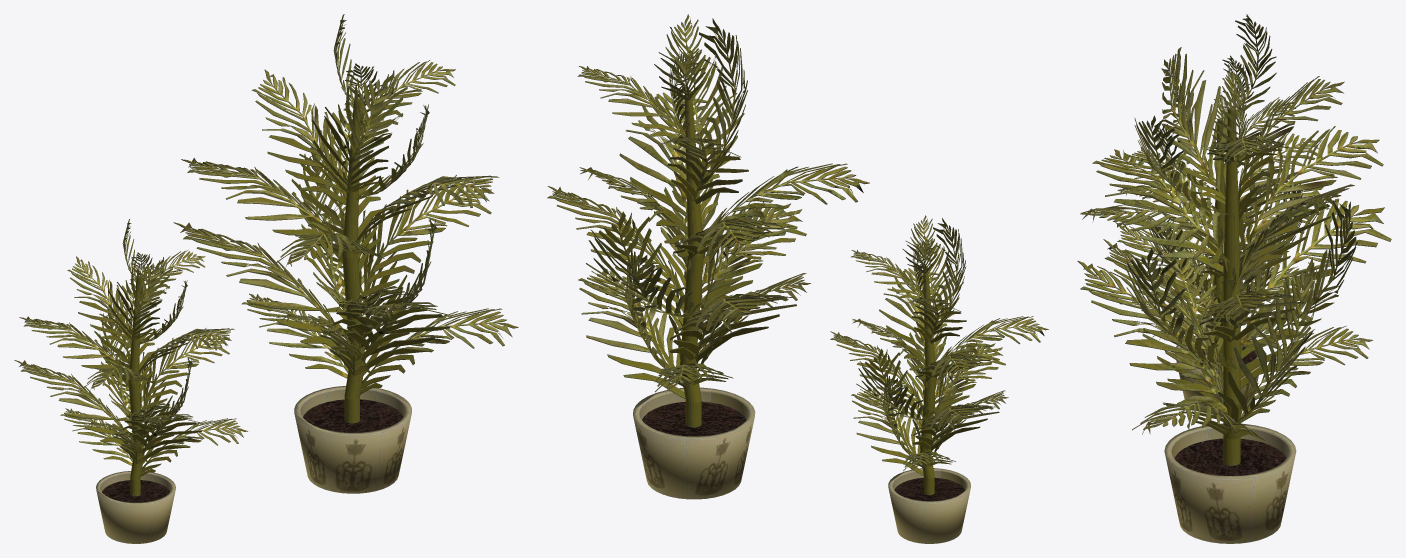
Rendered from plants.glb.
3 views of the same model, side by side, from view 1: azimuth 30°, elevation 25°; view 2: azimuth 150°, elevation 25°; view 3: azimuth 270°, elevation 25° (orthographic). The views are drawn at different scales.
Parts seen in each view (by area): view 1: Plano.001_Materiais.004_0, Plano.002_Materiais.001_0; view 2: Plano.001_Materiais.004_0, Plano.002_Materiais.001_0; view 3: Plano.001_Materiais.004_0, Plano.002_Materiais.001_0.
Part boxes in pixels (box(x1,y1,x2,y2)): Plano.001_Materiais.004_0: box(173, 14, 518, 493); Plano.002_Materiais.001_0: box(14, 219, 247, 543); Plano.001_Materiais.004_0: box(547, 14, 869, 499); Plano.002_Materiais.001_0: box(830, 215, 1048, 543); Plano.001_Materiais.004_0: box(1077, 14, 1391, 543); Plano.002_Materiais.001_0: box(1115, 55, 1327, 413).
Bounding box in the file's own units: 0.2054 × 0.1995 × 0.112.
2 materials, 2 textured.
